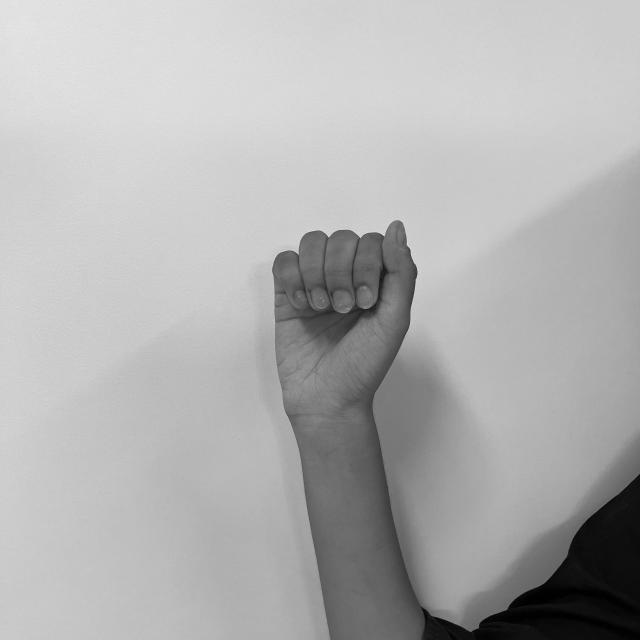Letra A: (266, 214, 424, 421)
